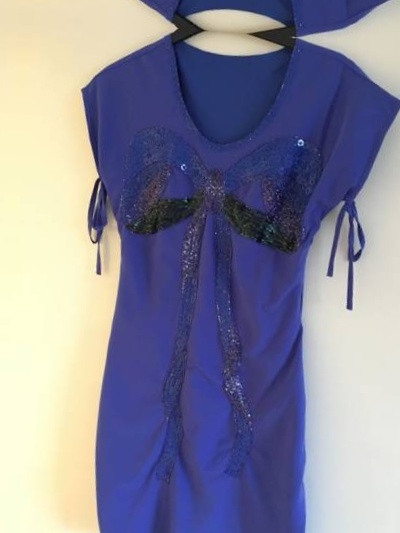Dress: (25, 24, 394, 533), (66, 0, 400, 41), (0, 0, 26, 10)
